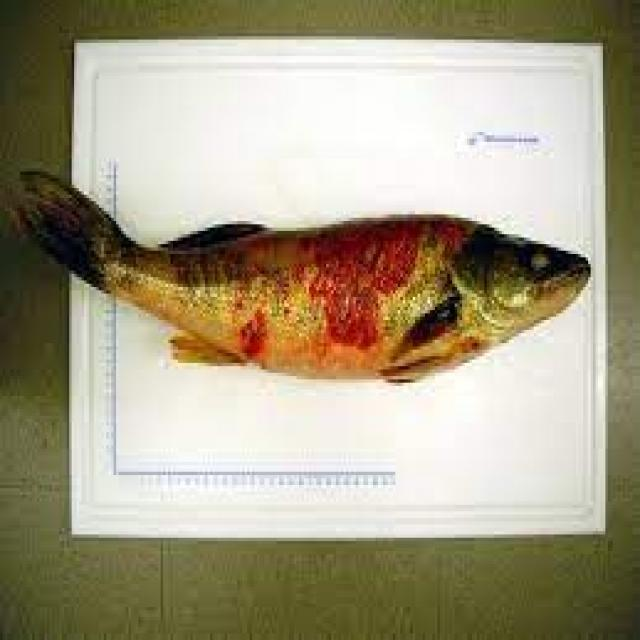EUS Disease: (12, 158, 594, 384), (172, 202, 520, 390)
